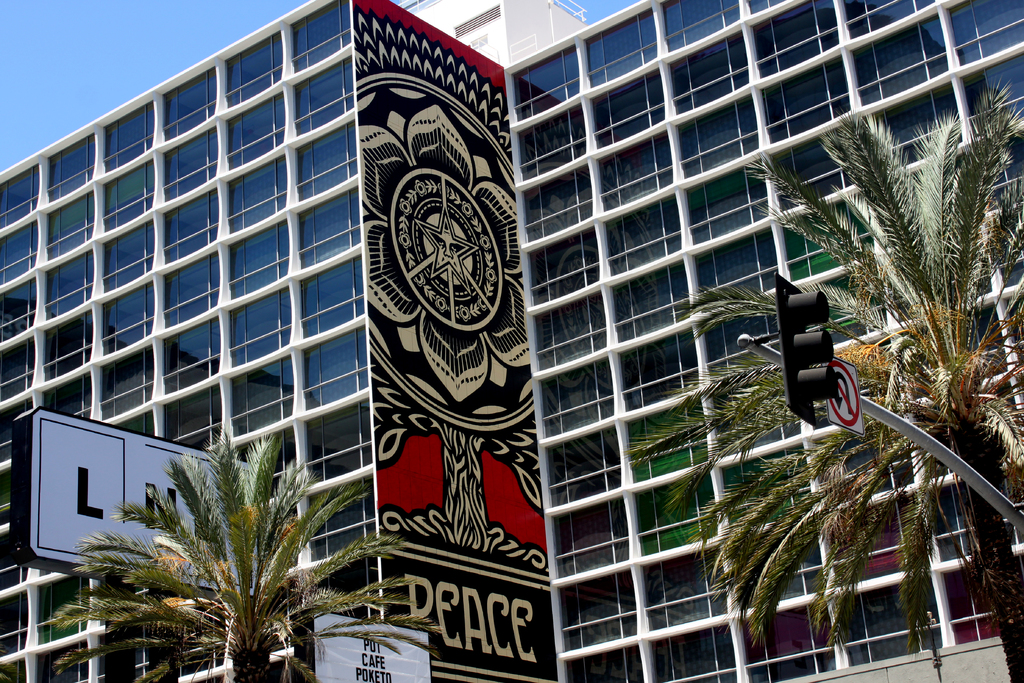Tree: (622, 80, 1023, 682), (55, 399, 385, 668)
